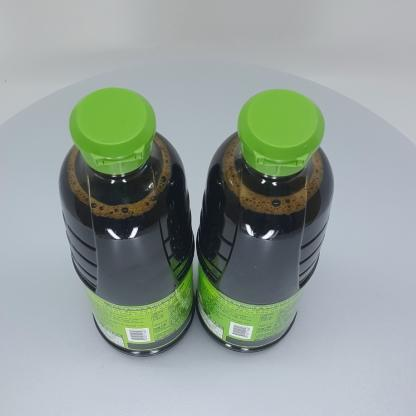-------------: (58, 88, 195, 357), (195, 89, 334, 353)
